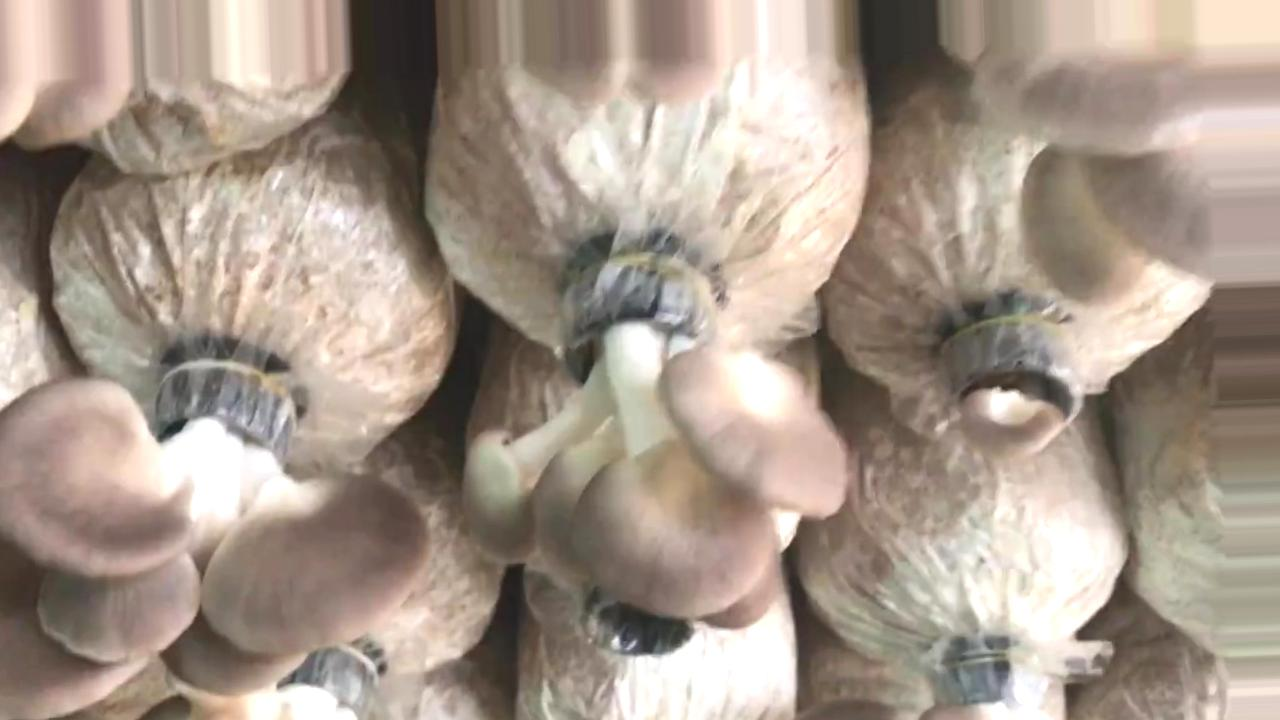nam: (1, 368, 426, 718), (462, 266, 849, 627), (977, 64, 1280, 307), (526, 1, 719, 106), (1, 1, 132, 147), (941, 324, 1081, 456)
